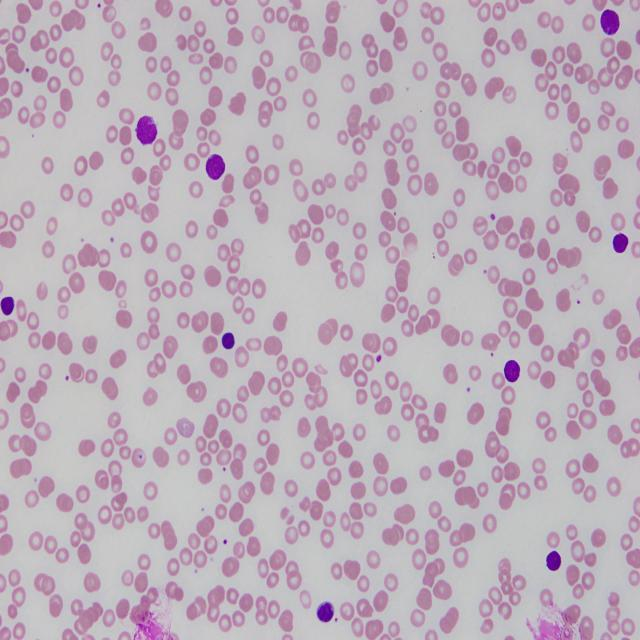cell: (136, 115, 158, 145), (206, 153, 225, 180), (600, 10, 620, 35), (504, 360, 520, 382), (612, 233, 629, 253), (546, 550, 561, 572), (0, 297, 14, 315), (221, 332, 235, 350)
